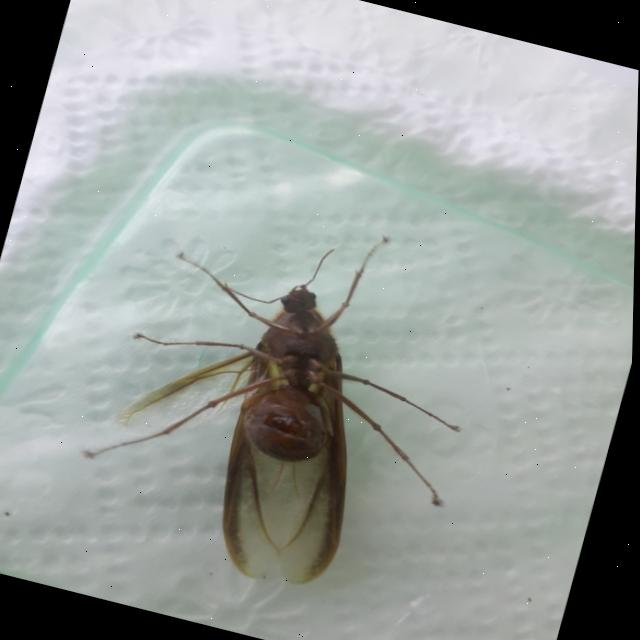Dead-Male-Alate: (62, 179, 511, 619)
